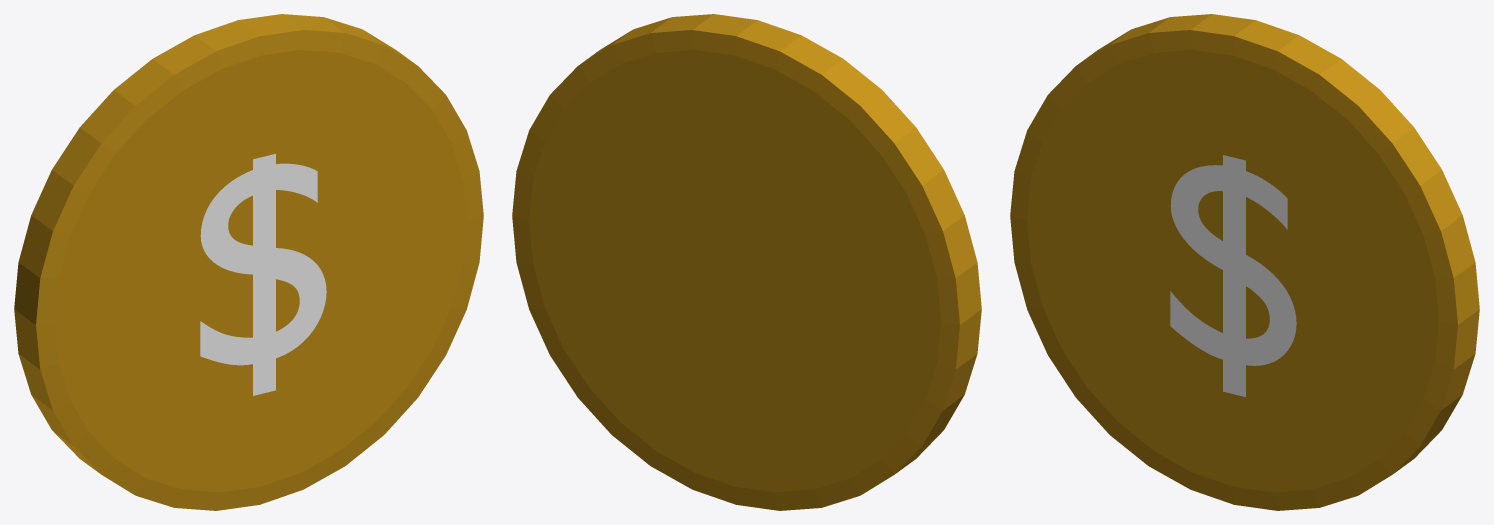
File: Coins.glb
3 views of the same model, side by side, from view 1: azimuth 30°, elevation 25°; view 2: azimuth 150°, elevation 25°; view 3: azimuth 330°, elevation 25° (orthographic).
Visible parts, largest first — view 1: Cylinder, Text; view 2: Cylinder; view 3: Cylinder, Text.
Part boxes in pixels (box(x1,y1,x2,y2)): Cylinder: box(14, 14, 483, 510); Text: box(200, 153, 326, 395); Cylinder: box(512, 14, 981, 510); Cylinder: box(1010, 14, 1479, 510); Text: box(1170, 155, 1296, 396).
Size of the model in its own units: 1.6 by 1.6 by 0.1602.
